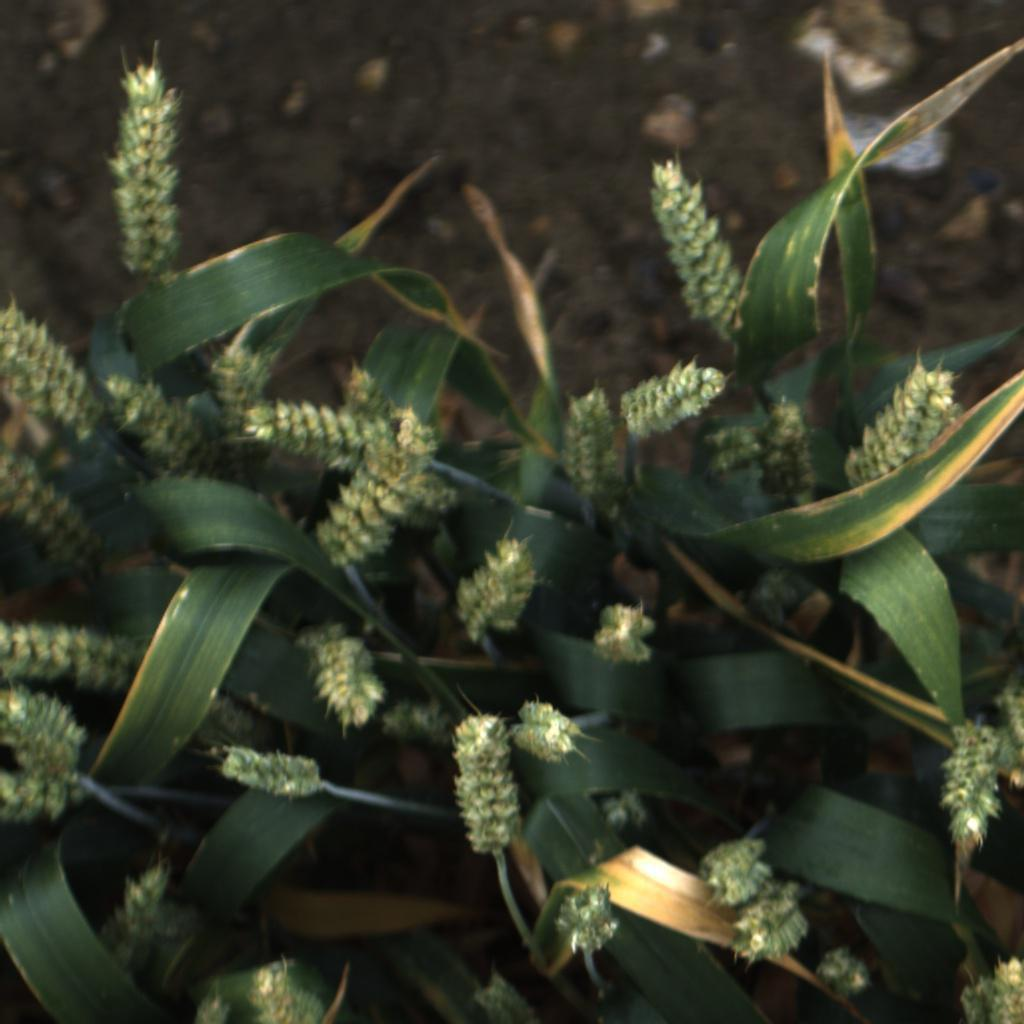0-0: (306, 405, 443, 570), (637, 156, 756, 345), (108, 63, 196, 291), (0, 439, 119, 586), (841, 360, 963, 494), (0, 299, 113, 443), (98, 367, 219, 481), (0, 616, 152, 702), (447, 712, 532, 861), (245, 392, 392, 469), (940, 717, 1007, 861), (452, 536, 542, 642), (212, 341, 282, 477), (94, 861, 178, 974), (615, 362, 733, 442), (1, 689, 94, 784), (355, 446, 458, 527), (554, 383, 624, 499), (309, 631, 387, 732), (210, 742, 327, 803), (729, 880, 812, 962), (768, 394, 823, 506), (693, 837, 773, 908), (549, 883, 623, 956), (242, 964, 328, 1024), (199, 696, 278, 761), (517, 694, 587, 767), (738, 564, 811, 631), (591, 592, 655, 667), (0, 769, 87, 820), (988, 671, 1024, 791), (465, 976, 550, 1024), (589, 785, 659, 843), (336, 361, 394, 425), (705, 419, 764, 477), (151, 898, 203, 946), (570, 473, 626, 517), (294, 619, 349, 662), (959, 970, 1000, 1023), (381, 695, 426, 741), (814, 940, 853, 983), (839, 957, 874, 996), (413, 700, 447, 739), (193, 995, 230, 1024)
